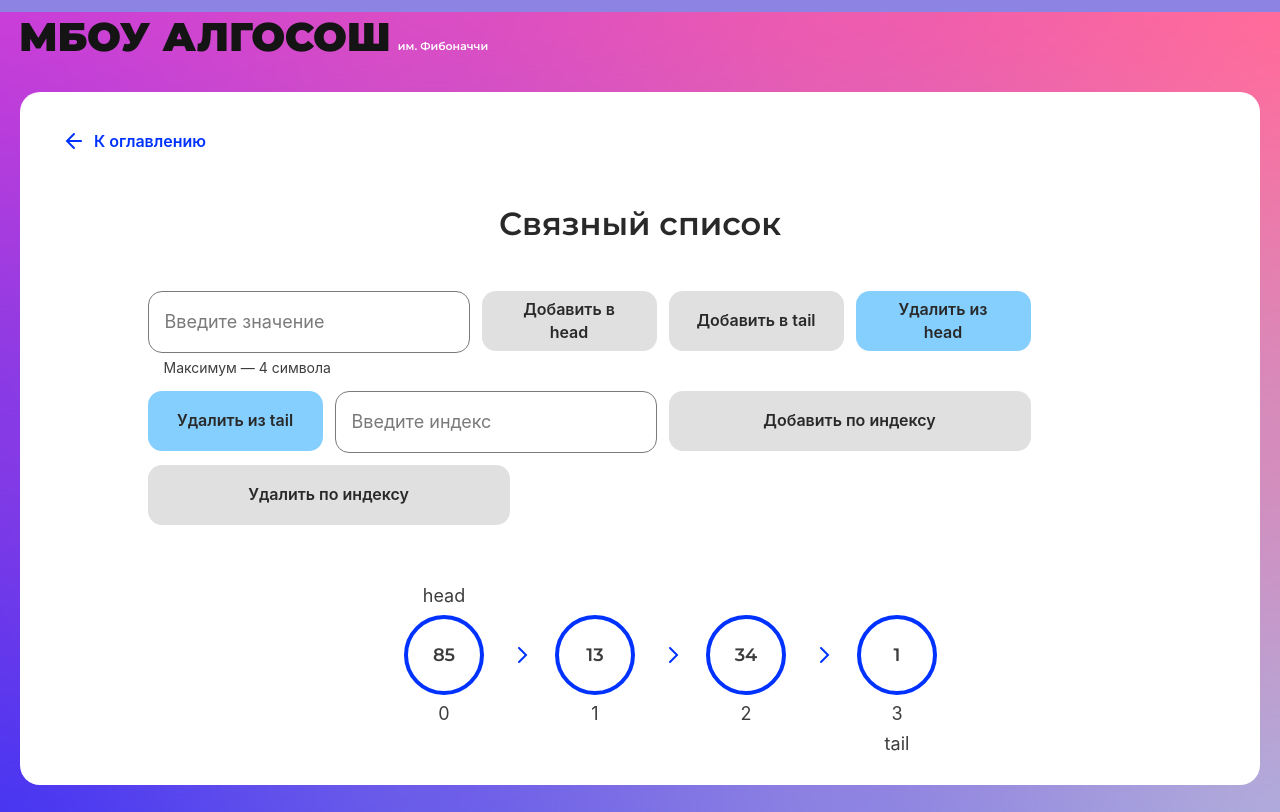
Test: List Work Is Correct › Correctness of deleting an element from head
Check: the element with test id "circle" reads "85", box [404,615,484,695]
Check: the number of elements with test id "circle" is 4, box [404,615,484,695]; [555,615,635,695]; [706,615,786,695]; [857,615,937,695]
Click the button with test id "delHeadBtn" at [944, 321], box [856,291,1031,351]
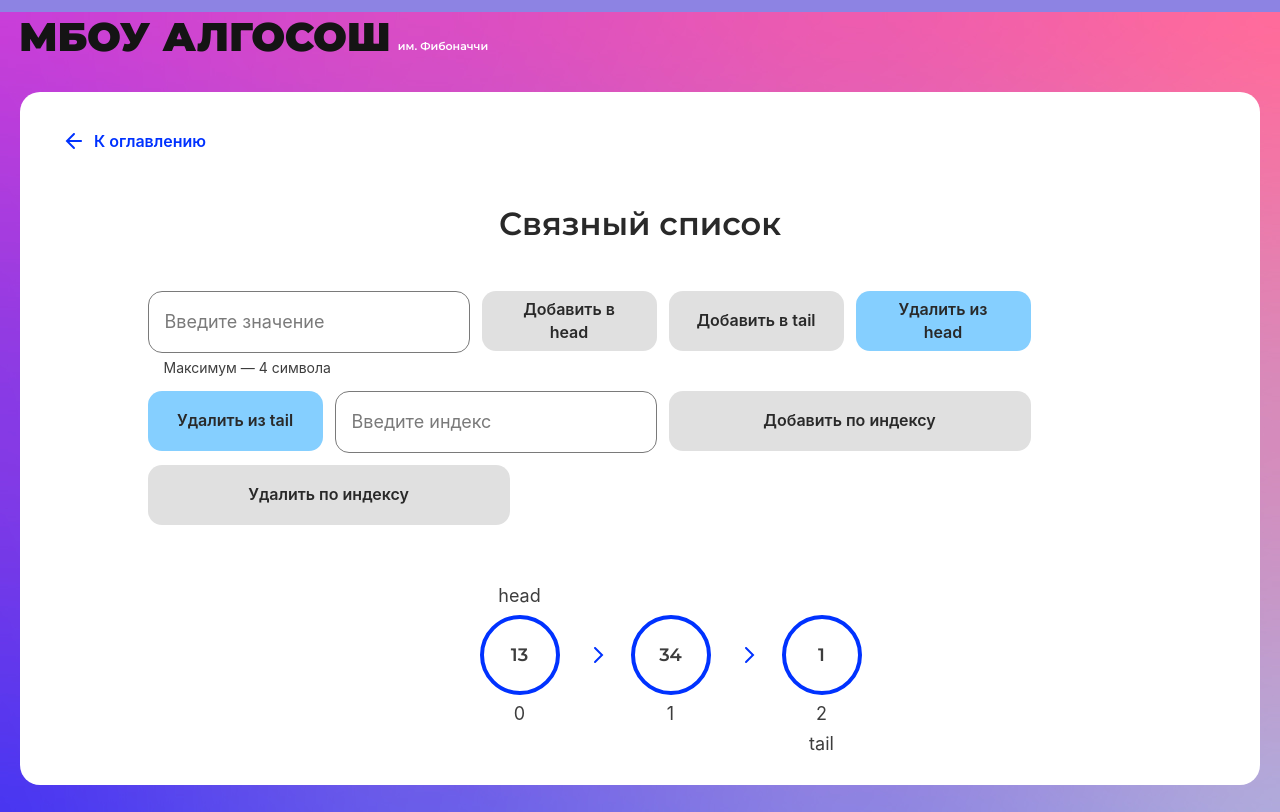
Check: the element with test id "circle" reads "13", box [480,615,560,695]
Check: the number of elements with test id "circle" is 3, box [480,615,560,695]; [630,615,710,695]; [782,615,862,695]
